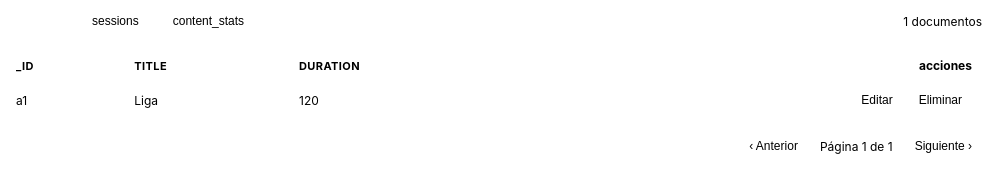
DocumentTable › renderiza filas y entra en modo edición al hacer clic en Editar
The image size is (999, 171).
Expected: the text "Liga" is shown, [124,81,289,119]
Click the button "Editar" at (877, 100), box [851,89,903,111]
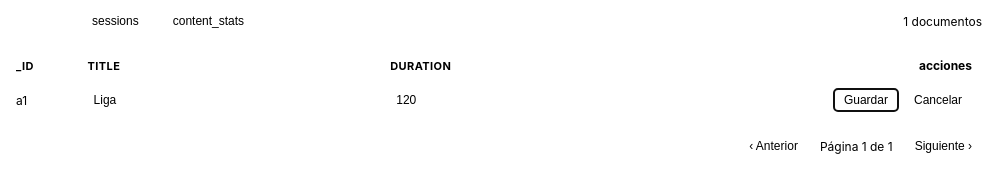
Now the button "Guardar" is shown, box [834,89,898,111]
Now the field named "title" holds "Liga", box [88,89,228,111]
